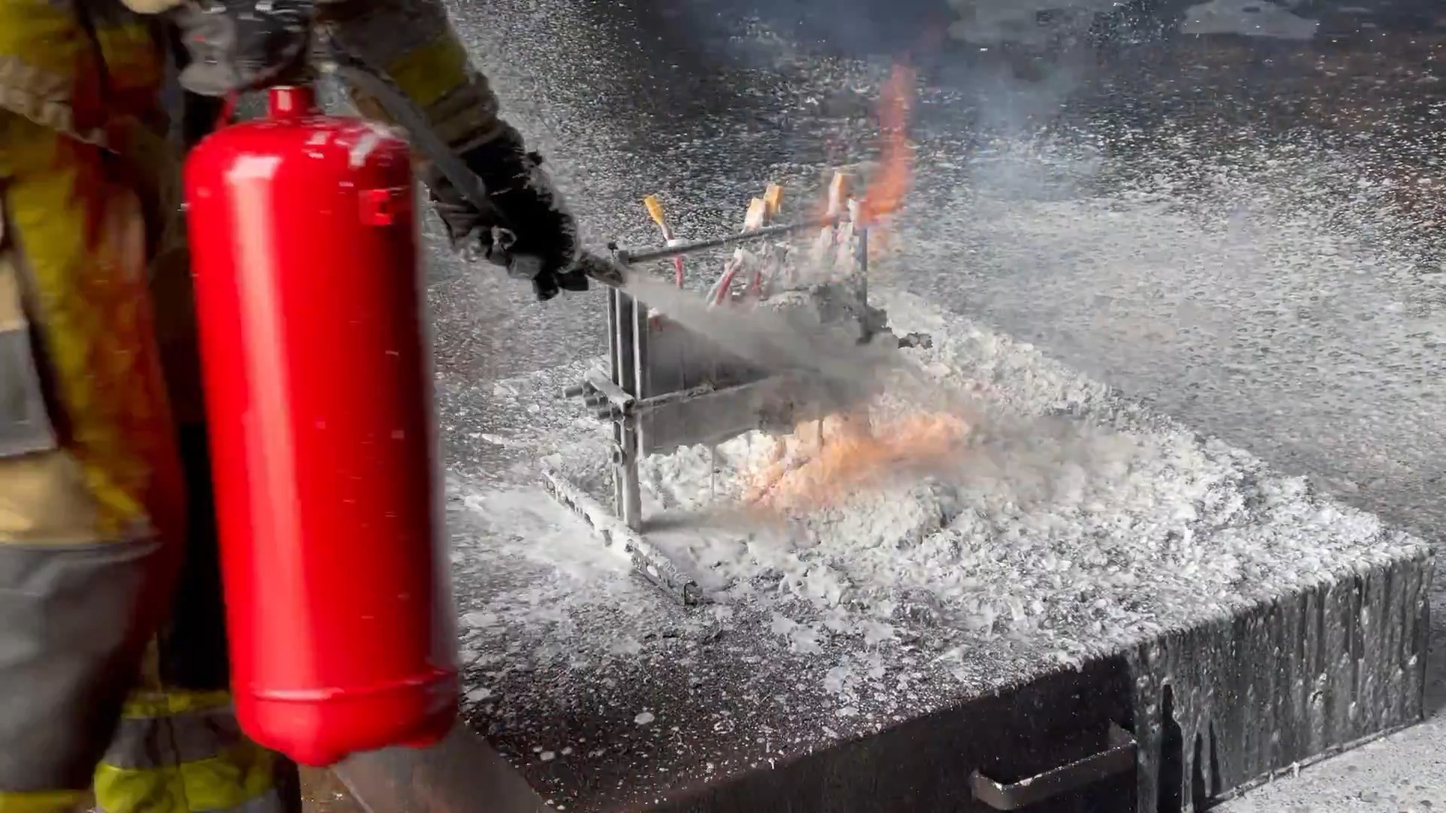fire: (710, 402, 979, 528), (819, 54, 921, 265)
smoke: (886, 0, 1102, 221)
